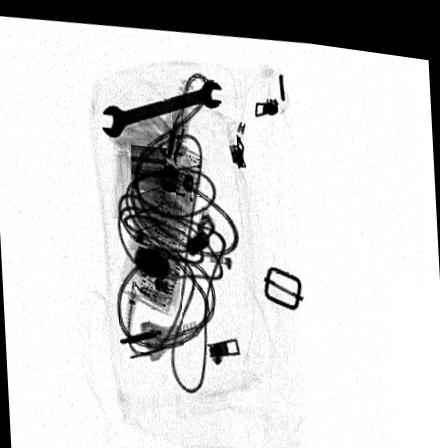Wrench: (99, 73, 225, 136)
